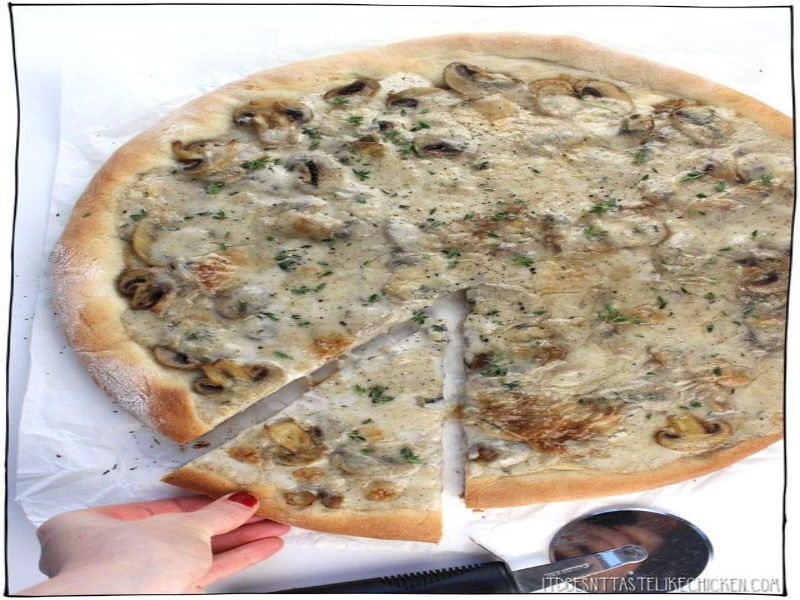champignon: (193, 351, 289, 408), (648, 406, 745, 454), (264, 415, 336, 477), (229, 99, 320, 148), (113, 266, 190, 316), (326, 70, 387, 110)
